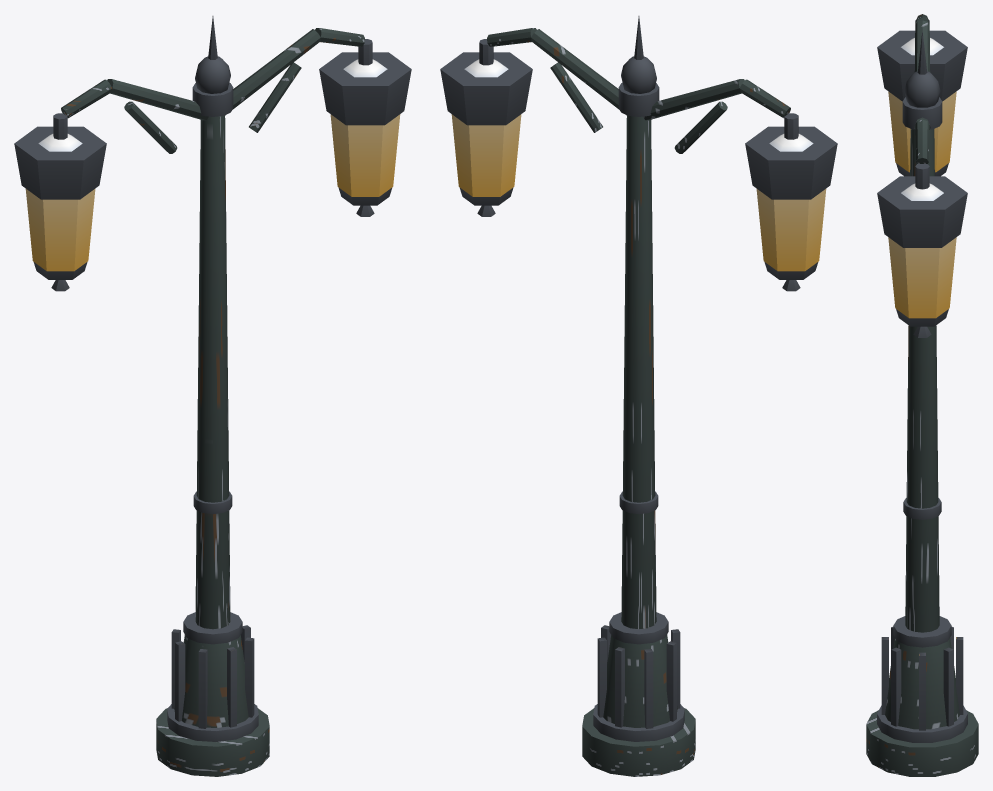
The model's file is ck_street_lamp_double.fbx.
The picture shows the model from 3 angles, left to right: view 1: azimuth 30°, elevation 25°; view 2: azimuth 150°, elevation 25°; view 3: azimuth 270°, elevation 25°; orthographic projection. The views are drawn at different scales.
Parts seen in each view (by area): view 1: ck_street_lamp_double; view 2: ck_street_lamp_double; view 3: ck_street_lamp_double.
Part boxes in pixels (bbox=[...]): ck_street_lamp_double: bbox=[14, 16, 411, 776]; ck_street_lamp_double: bbox=[440, 16, 837, 776]; ck_street_lamp_double: bbox=[866, 14, 978, 776].
Bounding box in the file's own units: 509 × 960 × 135.
